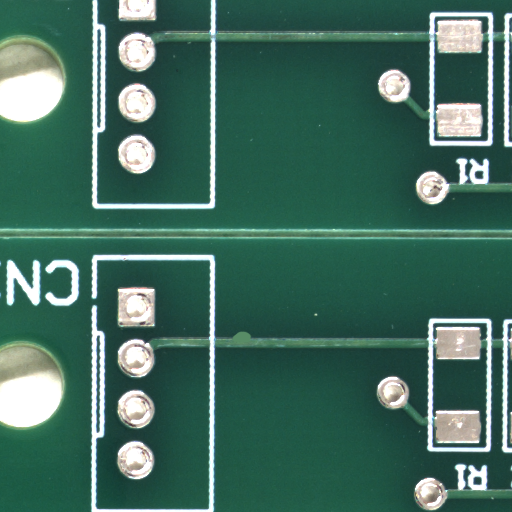Spur: (242, 335, 263, 344)
